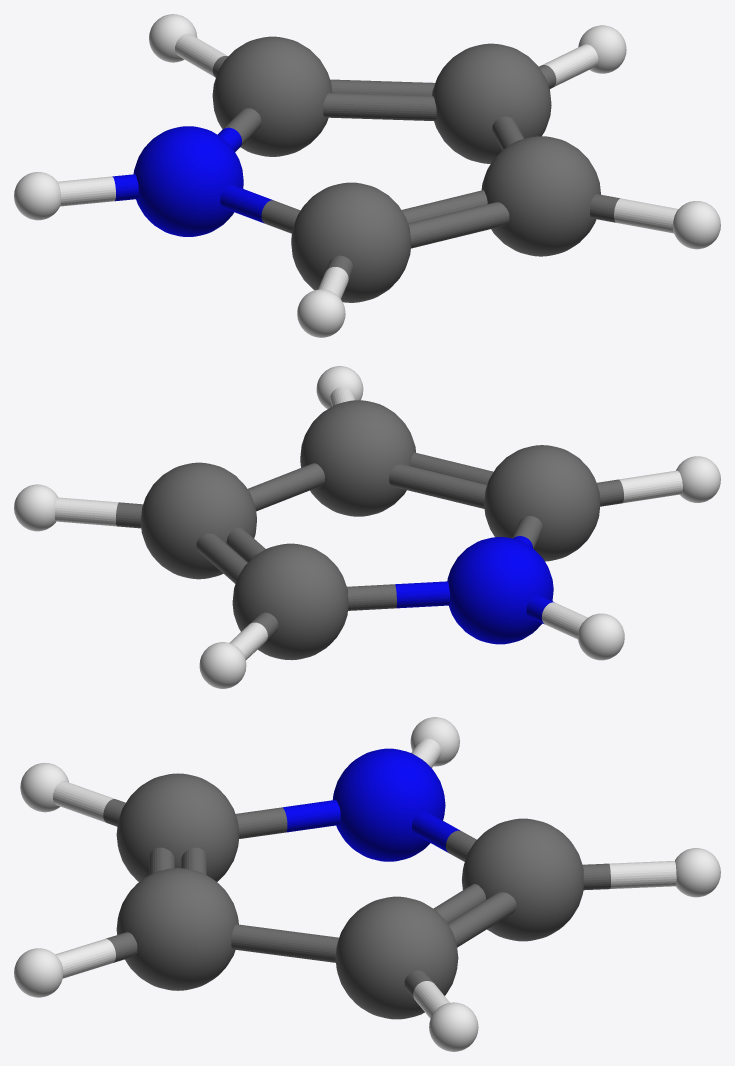
The model's file is pyrrole.fbx.
The picture shows the model from 3 angles, top to bottom: view 1: azimuth 30°, elevation 25°; view 2: azimuth 150°, elevation 25°; view 3: azimuth 270°, elevation 25°; orthographic projection. The views are drawn at different scales.
Visible parts, largest first — view 1: C02, C01, C04, C03, N05, C03=C04, C01=C02.001, C02-H08, N05-H06, C01-N05, H07, H08 (+10 smaller); view 2: C04, C02, C01, C03, N05, C04-N05, C01=C02, C03-H09, C01-H07, C02-C03, H06, H10 (+9 smaller); view 3: C02, C03, C04, C01, N05, C02-C03, C01-N05, C04-H10, C02-H08, H09, H08, H10 (+10 smaller).
Boxes of the visible parts, <box> form: C02: <box>481,136,600,256</box>; C01: <box>291,182,411,302</box>; C04: <box>212,36,332,156</box>; C03: <box>432,43,551,163</box>; N05: <box>133,126,243,236</box>; C03=C04: <box>323,92,436,121</box>; C01=C02.001: <box>408,202,509,248</box>; C02-H08: <box>590,194,678,233</box>; N05-H06: <box>58,174,138,206</box>; C01-N05: <box>220,184,300,233</box>; H07: <box>297,289,345,337</box>; H08: <box>672,201,720,249</box>; C04: <box>232,543,348,660</box>; C02: <box>300,400,415,516</box>; C01: <box>484,445,600,561</box>; C03: <box>140,462,256,579</box>; N05: <box>447,537,553,644</box>; C04-N05: <box>347,581,449,610</box>; C01=C02: <box>389,464,486,508</box>; C03-H09: <box>55,497,142,528</box>; C01-H07: <box>596,470,682,506</box>; C02-C03: <box>247,463,324,511</box>; H06: <box>578,613,624,660</box>; H10: <box>199,642,246,688</box>; C02: <box>116,868,238,990</box>; C03: <box>335,896,458,1019</box>; C04: <box>462,818,583,941</box>; C01: <box>116,773,239,881</box>; N05: <box>332,748,445,861</box>; C02-C03: <box>231,924,338,962</box>; C01-N05: <box>235,800,340,838</box>; C04-H10: <box>582,861,676,890</box>; C02-H08: <box>55,932,137,978</box>; H09: <box>429,1002,478,1051</box>; H08: <box>14,948,63,997</box>; H10: <box>675,848,720,897</box>.
Bounding box in the file's own units: 454 × 77.01 × 443.
